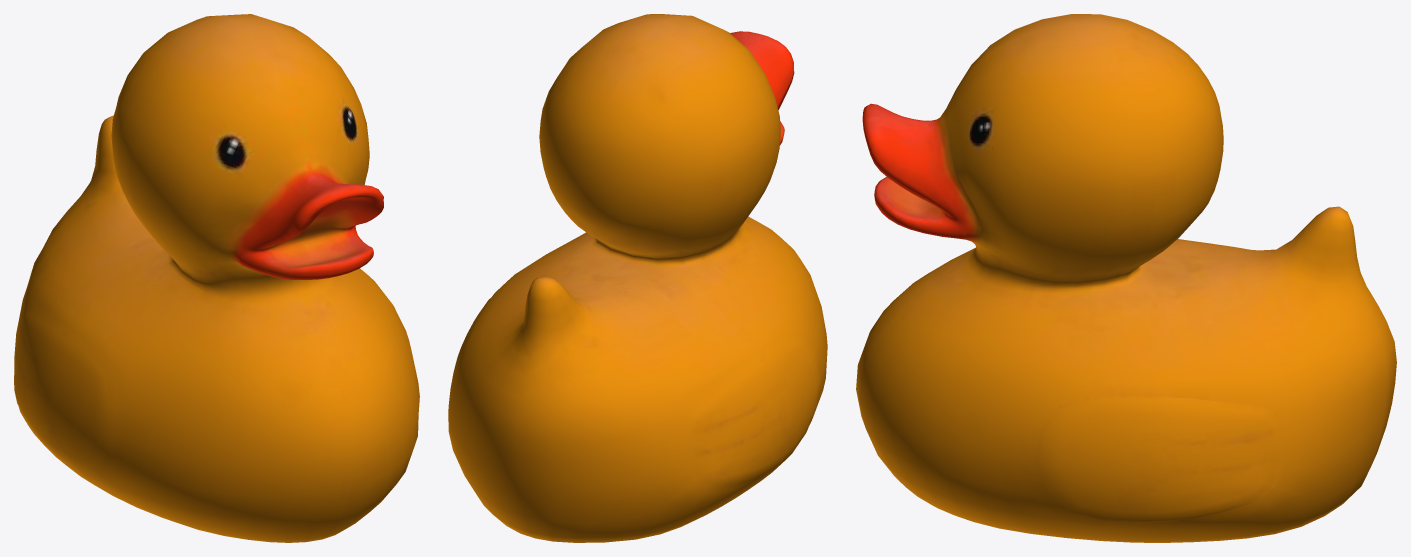
The model's file is rubber_duck_toy.glb.
3 views of the same model, side by side, from view 1: azimuth 30°, elevation 25°; view 2: azimuth 150°, elevation 25°; view 3: azimuth 270°, elevation 25° (orthographic). The views are drawn at different scales.
Visible parts, largest first — view 1: rubber_duck_toy; view 2: rubber_duck_toy; view 3: rubber_duck_toy.
Part boxes in pixels (x1=…): rubber_duck_toy: x1=14, y1=14, x2=419, y2=542; rubber_duck_toy: x1=448, y1=14, x2=827, y2=542; rubber_duck_toy: x1=856, y1=14, x2=1396, y2=542.
Size of the model in its own units: 0.2135 by 0.2855 by 0.3.
1 material, 1 textured.
